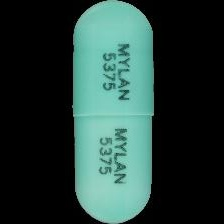0378-5375: (0, 0, 224, 224)
